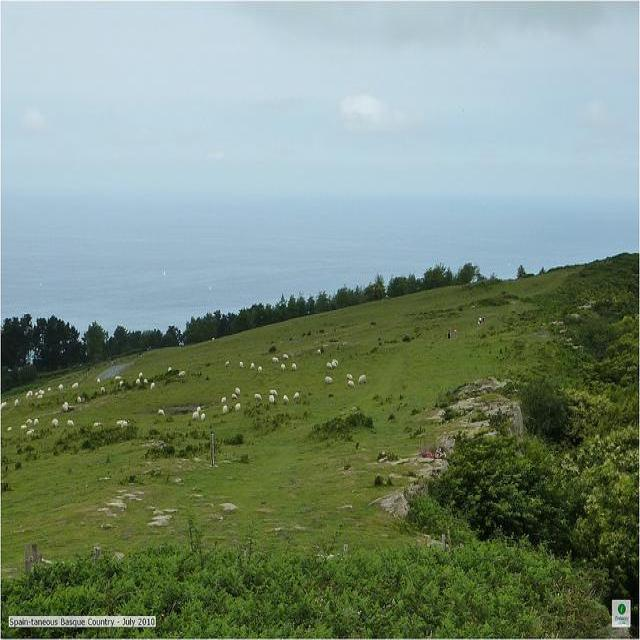Sheep: (1, 344, 323, 440)
